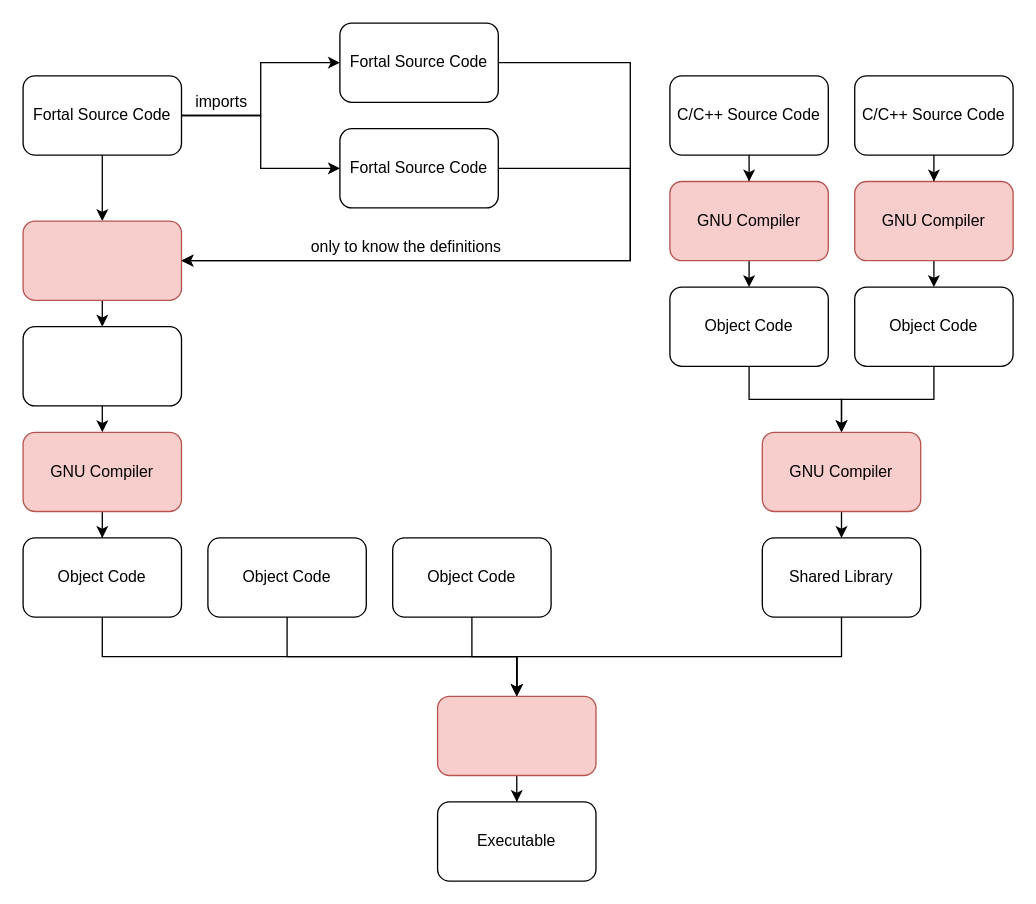
The diagram is 1036 pixels wide and 904 high, and some of its shapes have lost their labels. Here are the shapes that lost their labels. From the top down, the box of each, then its label:
(22, 220, 182, 300): Fortal Compiler
(22, 325, 182, 406): Assembly Code
(436, 695, 596, 776): Linker
